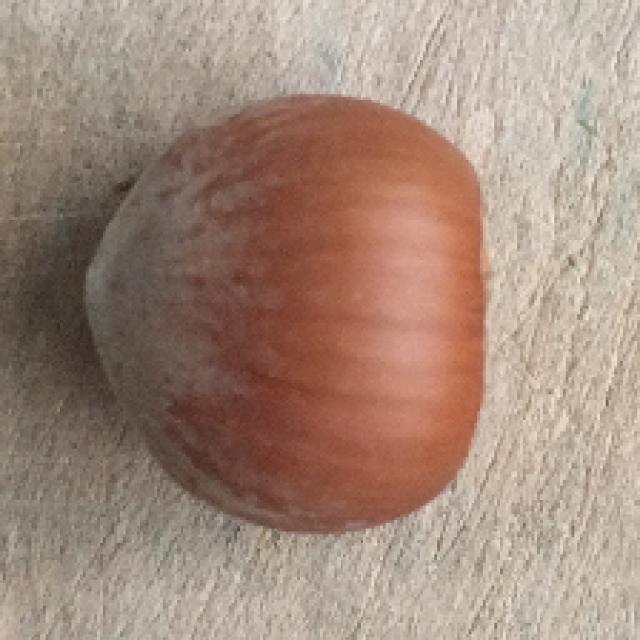qualityHazelnut: (91, 90, 491, 534)
